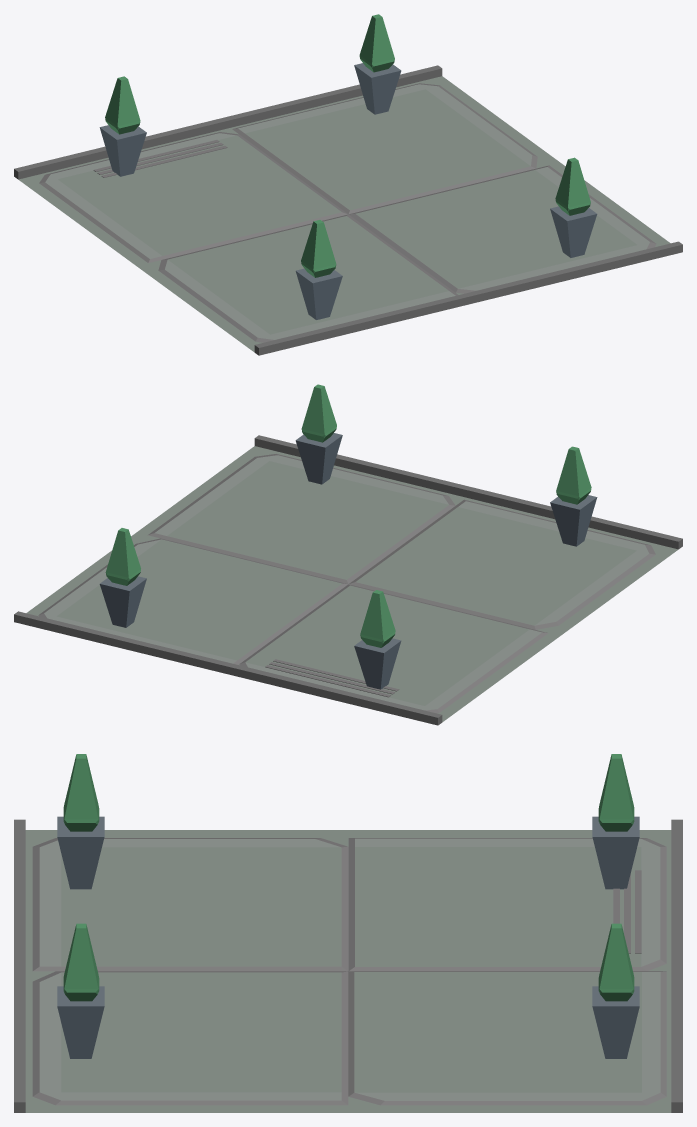
The model's file is Road_D.gltf.
3 renders of one model, top to bottom at view 1: azimuth 30°, elevation 25°; view 2: azimuth 150°, elevation 25°; view 3: azimuth 270°, elevation 25°, orthographic. The views are drawn at different scales.
Parts seen in each view (by area): view 1: Scifi_Panel_03 Plaza014_group4; view 2: Scifi_Panel_03 Plaza014_group4; view 3: Scifi_Panel_03 Plaza014_group4.
Part boxes in pixels (x1=…): Scifi_Panel_03 Plaza014_group4: x1=14, y1=14, x2=682, y2=355; Scifi_Panel_03 Plaza014_group4: x1=14, y1=384, x2=682, y2=725; Scifi_Panel_03 Plaza014_group4: x1=14, y1=754, x2=682, y2=1112.
Size of what is drawn, in the model's own units: 10 by 2.2 by 10.
Materials: 1 (1 with a texture image).
